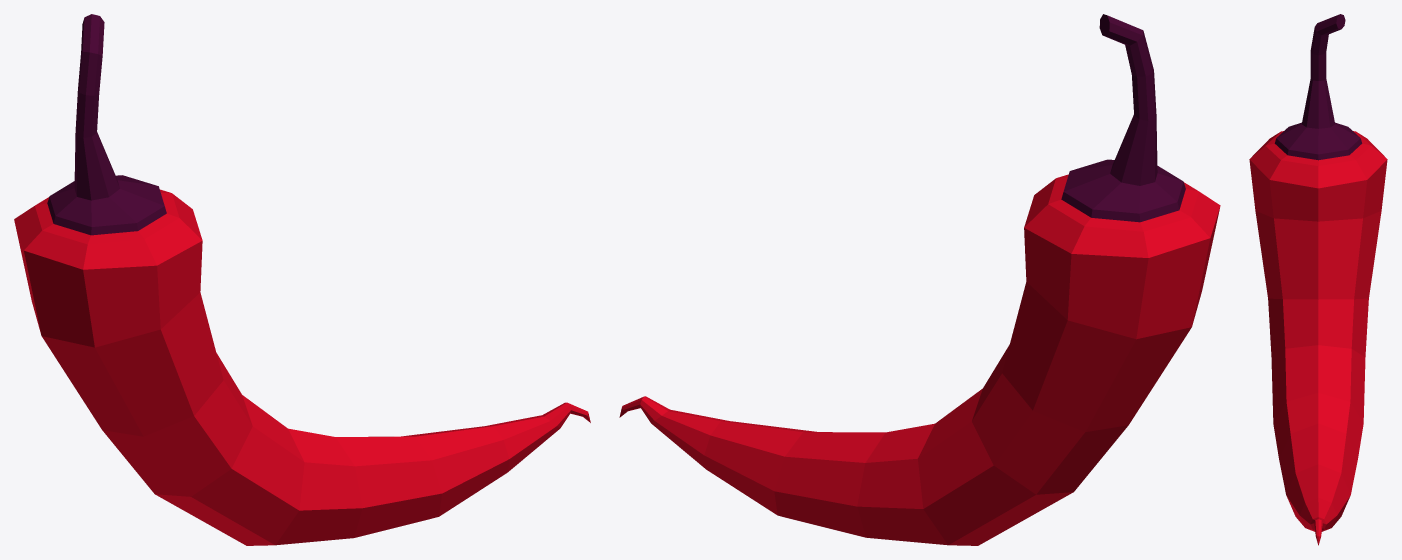
File: ChiliPepper_01.fbx
3 views of the same model, side by side, from view 1: azimuth 30°, elevation 25°; view 2: azimuth 150°, elevation 25°; view 3: azimuth 270°, elevation 25° (orthographic). The views are drawn at different scales.
Visible parts, largest first — view 1: ChiliPepper_01; view 2: ChiliPepper_01; view 3: ChiliPepper_01.
Part boxes in pixels (x1,y1,x2,y2): ChiliPepper_01: [14, 14, 590, 545]; ChiliPepper_01: [619, 14, 1220, 545]; ChiliPepper_01: [1249, 14, 1387, 545].
Bounding box in the file's own units: 8.15 × 7.81 × 2.43.
